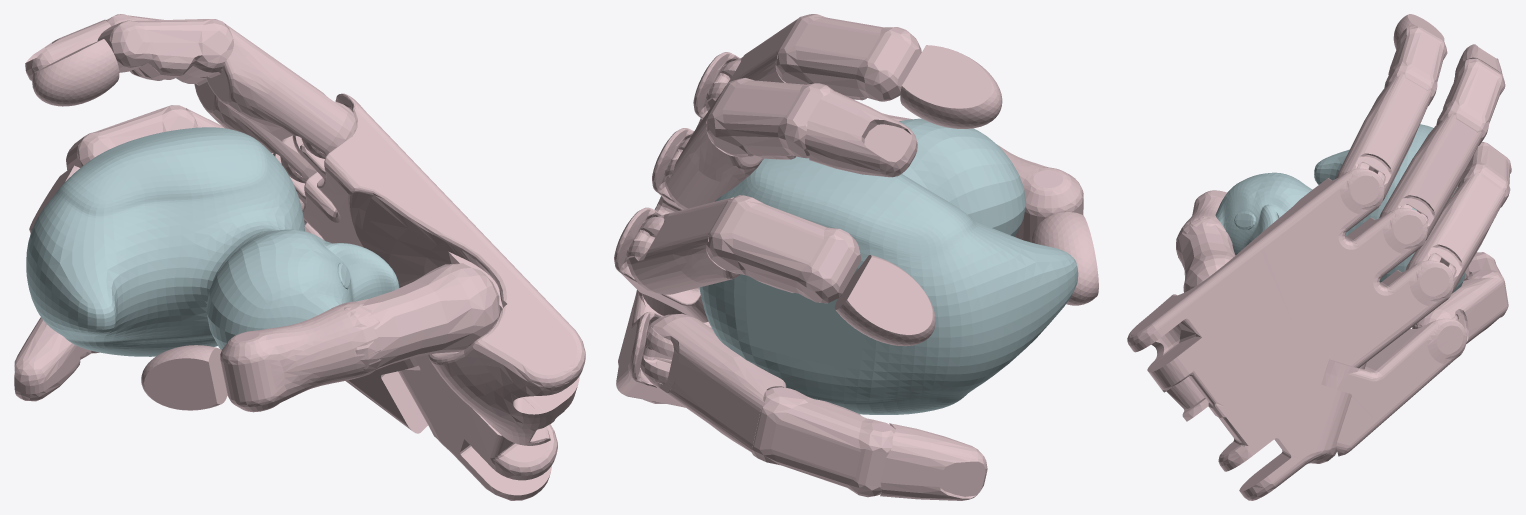
File: grasp_2.glb
3 views of the same model, side by side, from view 1: azimuth 30°, elevation 25°; view 2: azimuth 150°, elevation 25°; view 3: azimuth 270°, elevation 25° (orthographic). The views are drawn at different scales.
Parts seen in each view (by area): view 1: world; view 2: world; view 3: world.
Boxes of the visible parts, x1,y1,x2,y2 form: world: [14, 14, 585, 500]; world: [614, 14, 1098, 500]; world: [1127, 14, 1511, 500].
Size of the model in its own units: 0.1435 by 0.1508 by 0.1448.
